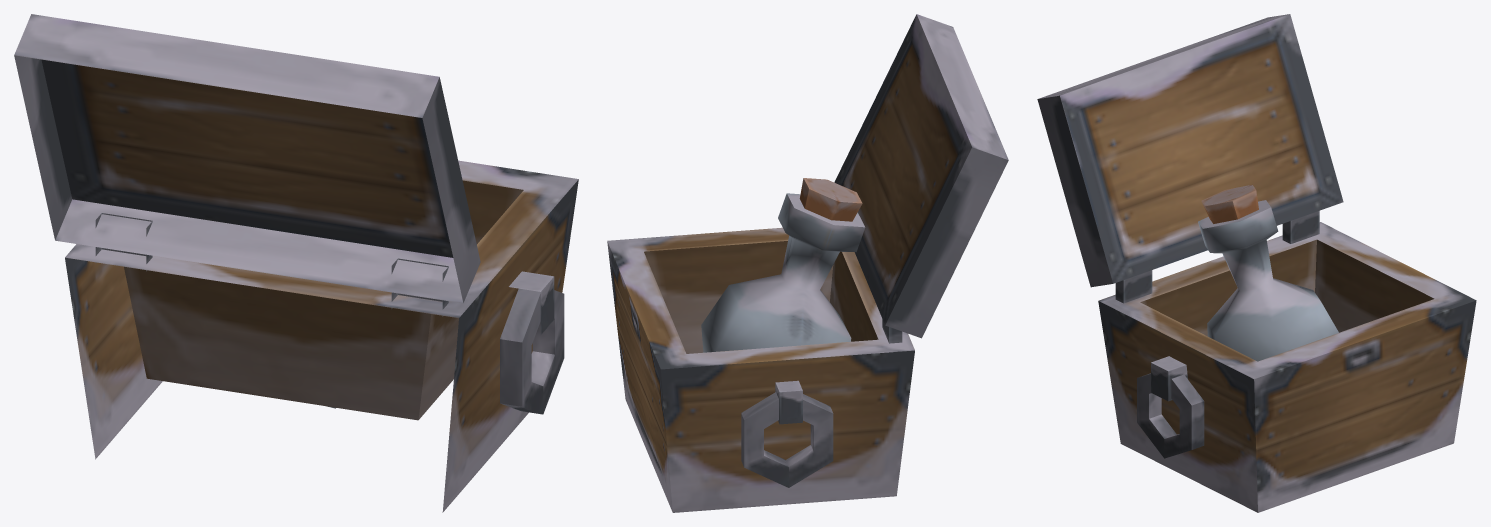
File: wood_chest_snow.FBX
3 views of the same model, side by side, from view 1: azimuth 30°, elevation 25°; view 2: azimuth 150°, elevation 25°; view 3: azimuth 270°, elevation 25° (orthographic). The views are drawn at different scales.
Parts seen in each view (by area): view 1: Object015; view 2: Object015; view 3: Object015.
Part boxes in pixels (box(x1,y1,x2,y2)): Object015: box(14, 14, 578, 512); Object015: box(607, 14, 1008, 512); Object015: box(1037, 14, 1476, 512).
Size of the model in its own units: 29.78 by 24.61 by 29.49.
